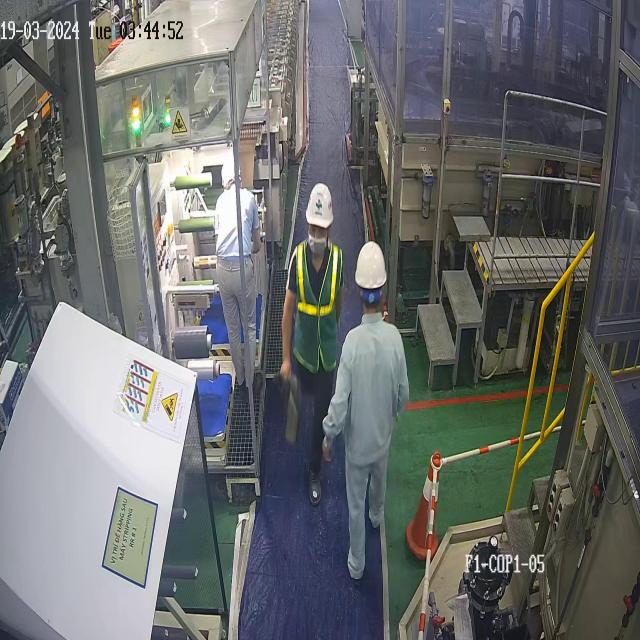Person: (322, 240, 409, 581), (279, 182, 344, 506), (213, 152, 261, 388)
